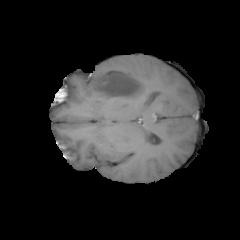glioma: (86, 69, 147, 167)
